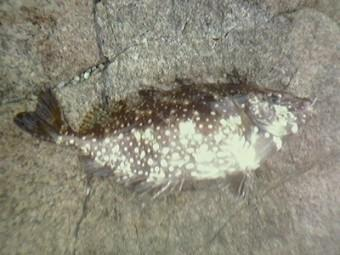fish: (16, 69, 313, 197)
